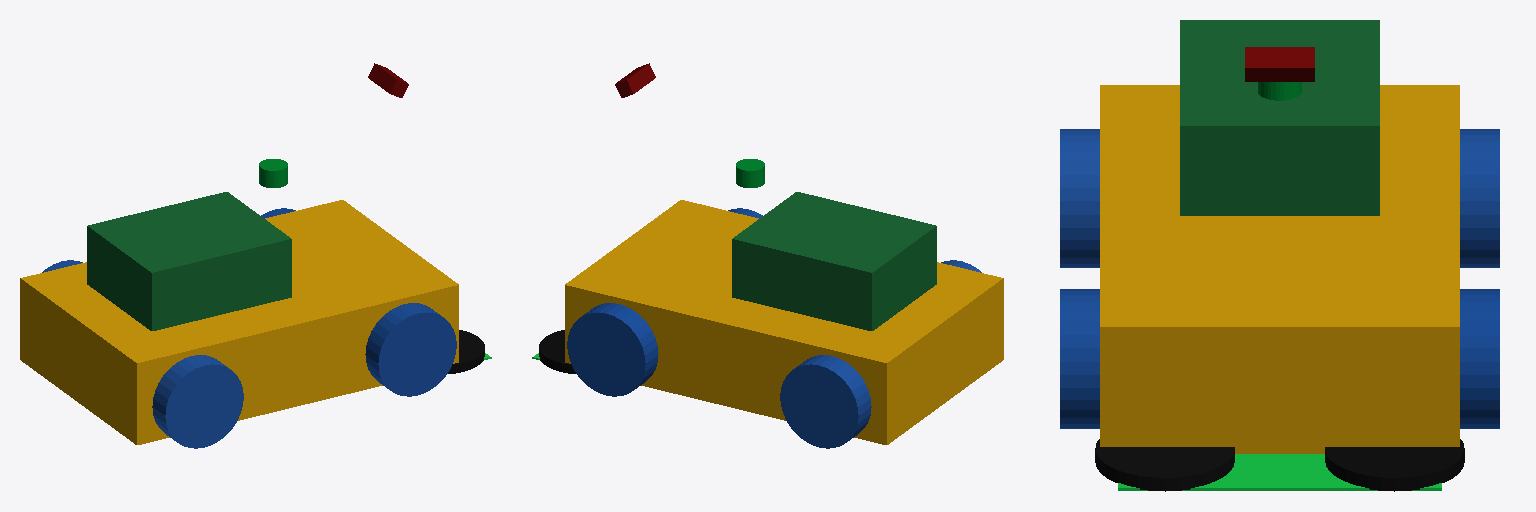
URDF robot description (sanitation_vehicle):
<?xml version="1.0" ?>
<!-- =================================================================================== -->
<!-- |    This document was autogenerated by xacro from /runtime/install/sanitation_vehicle_description/share/sanitation_vehicle_description/urdf/sanitation_vehicle.urdf.xacro | -->
<!-- |    EDITING THIS FILE BY HAND IS NOT RECOMMENDED                                 | -->
<!-- =================================================================================== -->
<robot name="sanitation_vehicle">
  <!-- Local primitive chassis avoids the upstream Gazebo-classic visual
       override colliding with URDF materials in Ogre2 / Gazebo Harmonic. -->
  <link name="base_footprint"/>
  <link name="base_link">
    <visual>
      <geometry>
        <box size="1.15 0.72 0.28"/>
      </geometry>
      <material name="sanitation_chassis_yellow">
        <color rgba="0.84 0.63 0.05 1.0"/>
      </material>
    </visual>
    <collision>
      <geometry>
        <box size="1.15 0.72 0.28"/>
      </geometry>
    </collision>
    <inertial>
      <mass value="80.0"/>
      <inertia ixx="3.978666666666667" ixy="0" ixz="0" iyy="9.339333333333332" iyz="0" izz="12.272666666666666"/>
    </inertial>
  </link>
  <joint name="base_to_footprint" type="fixed">
    <parent link="base_footprint"/>
    <child link="base_link"/>
    <origin rpy="0 0 0" xyz="0 0 0.16"/>
  </joint>
  <link name="front_left_wheel_link">
    <visual>
      <origin rpy="1.5707963267948966 0 0"/>
      <geometry>
        <cylinder length="0.08" radius="0.14"/>
      </geometry>
      <material name="front_left_wheel_material">
        <color rgba="0.12 0.32 0.62 1.0"/>
      </material>
    </visual>
    <collision>
      <origin rpy="1.5707963267948966 0 0"/>
      <geometry>
        <cylinder length="0.08" radius="0.14"/>
      </geometry>
    </collision>
    <inertial>
      <mass value="3.0"/>
      <inertia ixx="0.016300000000000002" ixy="0" ixz="0" iyy="0.029400000000000003" iyz="0" izz="0.016300000000000002"/>
    </inertial>
  </link>
  <joint name="front_left_wheel_joint" type="continuous">
    <axis xyz="0 1 0"/>
    <parent link="base_link"/>
    <child link="front_left_wheel_link"/>
    <origin rpy="0 0 0" xyz="0.38 0.4 -0.02"/>
  </joint>
  <gazebo reference="front_left_wheel_link">
    <mu1>1.0</mu1>
    <mu2>1.0</mu2>
  </gazebo>
  <link name="front_right_wheel_link">
    <visual>
      <origin rpy="1.5707963267948966 0 0"/>
      <geometry>
        <cylinder length="0.08" radius="0.14"/>
      </geometry>
      <material name="front_right_wheel_material">
        <color rgba="0.13 0.33 0.63 1.0"/>
      </material>
    </visual>
    <collision>
      <origin rpy="1.5707963267948966 0 0"/>
      <geometry>
        <cylinder length="0.08" radius="0.14"/>
      </geometry>
    </collision>
    <inertial>
      <mass value="3.0"/>
      <inertia ixx="0.016300000000000002" ixy="0" ixz="0" iyy="0.029400000000000003" iyz="0" izz="0.016300000000000002"/>
    </inertial>
  </link>
  <joint name="front_right_wheel_joint" type="continuous">
    <axis xyz="0 1 0"/>
    <parent link="base_link"/>
    <child link="front_right_wheel_link"/>
    <origin rpy="0 0 0" xyz="0.38 -0.4 -0.02"/>
  </joint>
  <gazebo reference="front_right_wheel_link">
    <mu1>1.0</mu1>
    <mu2>1.0</mu2>
  </gazebo>
  <link name="rear_left_wheel_link">
    <visual>
      <origin rpy="1.5707963267948966 0 0"/>
      <geometry>
        <cylinder length="0.08" radius="0.14"/>
      </geometry>
      <material name="rear_left_wheel_material">
        <color rgba="0.14 0.34 0.64 1.0"/>
      </material>
    </visual>
    <collision>
      <origin rpy="1.5707963267948966 0 0"/>
      <geometry>
        <cylinder length="0.08" radius="0.14"/>
      </geometry>
    </collision>
    <inertial>
      <mass value="3.0"/>
      <inertia ixx="0.016300000000000002" ixy="0" ixz="0" iyy="0.029400000000000003" iyz="0" izz="0.016300000000000002"/>
    </inertial>
  </link>
  <joint name="rear_left_wheel_joint" type="continuous">
    <axis xyz="0 1 0"/>
    <parent link="base_link"/>
    <child link="rear_left_wheel_link"/>
    <origin rpy="0 0 0" xyz="-0.38 0.4 -0.02"/>
  </joint>
  <gazebo reference="rear_left_wheel_link">
    <mu1>1.0</mu1>
    <mu2>1.0</mu2>
  </gazebo>
  <link name="rear_right_wheel_link">
    <visual>
      <origin rpy="1.5707963267948966 0 0"/>
      <geometry>
        <cylinder length="0.08" radius="0.14"/>
      </geometry>
      <material name="rear_right_wheel_material">
        <color rgba="0.15 0.35 0.65 1.0"/>
      </material>
    </visual>
    <collision>
      <origin rpy="1.5707963267948966 0 0"/>
      <geometry>
        <cylinder length="0.08" radius="0.14"/>
      </geometry>
    </collision>
    <inertial>
      <mass value="3.0"/>
      <inertia ixx="0.016300000000000002" ixy="0" ixz="0" iyy="0.029400000000000003" iyz="0" izz="0.016300000000000002"/>
    </inertial>
  </link>
  <joint name="rear_right_wheel_joint" type="continuous">
    <axis xyz="0 1 0"/>
    <parent link="base_link"/>
    <child link="rear_right_wheel_link"/>
    <origin rpy="0 0 0" xyz="-0.38 -0.4 -0.02"/>
  </joint>
  <gazebo reference="rear_right_wheel_link">
    <mu1>1.0</mu1>
    <mu2>1.0</mu2>
  </gazebo>
  <link name="imu_link"/>
  <joint name="imu_to_base_link" type="fixed">
    <parent link="base_link"/>
    <child link="imu_link"/>
    <origin rpy="0 0 0" xyz="0 0 0"/>
  </joint>
  <gazebo>
    <plugin filename="gz-sim-imu-system" name="gz::sim::systems::Imu">
      </plugin>
  </gazebo>
  <gazebo reference="imu_link">
    <sensor name="imu_sensor" type="imu">
      <topic>imu/data</topic>
      <update_rate>50</update_rate>
      <always_on>true</always_on>
      <visualize>true</visualize>
    </sensor>
  </gazebo>
  <link name="laser">
    <visual>
      <geometry>
        <cylinder length="0.06" radius="0.045"/>
      </geometry>
      <material name="sanitation_lidar_green">
        <color rgba="0.02 0.55 0.20 1.0"/>
      </material>
    </visual>
    <collision>
      <geometry>
        <cylinder length="0.06" radius="0.045"/>
      </geometry>
    </collision>
    <inertial>
      <mass value="0.1"/>
      <inertia ixx="0.00006" ixy="0" ixz="0" iyy="0.00006" iyz="0" izz="0.00010"/>
    </inertial>
  </link>
  <joint name="laser_to_base_link" type="fixed">
    <parent link="base_link"/>
    <child link="laser"/>
    <origin rpy="0 0 0" xyz="0.12 0 0.48"/>
  </joint>
  <gazebo reference="laser">
    <sensor name="sanitation_gpu_lidar" type="gpu_lidar">
      <topic>scan</topic>
      <update_rate>10</update_rate>
      <always_on>true</always_on>
      <visualize>true</visualize>
      <lidar>
        <scan>
          <horizontal>
            <samples>360</samples>
            <resolution>1</resolution>
            <min_angle>-3.1416</min_angle>
            <max_angle>3.1416</max_angle>
          </horizontal>
          <vertical>
            <samples>1</samples>
            <resolution>1</resolution>
            <min_angle>0.0</min_angle>
            <max_angle>0.0</max_angle>
          </vertical>
        </scan>
        <range>
          <min>0.08</min>
          <max>12.0</max>
          <resolution>0.01</resolution>
        </range>
      </lidar>
    </sensor>
  </gazebo>
  <link name="camera_link">
    <visual>
      <geometry>
        <box size="0.05 0.14 0.05"/>
      </geometry>
      <material name="sanitation_camera_red">
        <color rgba="0.45 0.05 0.05 1.0"/>
      </material>
    </visual>
    <collision>
      <geometry>
        <box size="0.05 0.14 0.05"/>
      </geometry>
    </collision>
    <inertial>
      <mass value="0.135"/>
      <inertia ixx="0.00025" ixy="0" ixz="0" iyy="0.00006" iyz="0" izz="0.00025"/>
    </inertial>
  </link>
  <joint name="camera_to_base_link" type="fixed">
    <parent link="base_link"/>
    <child link="camera_link"/>
    <origin rpy="0 .5235987756 0" xyz=".53 0.0 .70"/>
  </joint>
  <link name="camera_depth_link"/>
  <joint name="camera_depth_joint" type="fixed">
    <parent link="camera_link"/>
    <child link="camera_depth_link"/>
    <origin rpy="0 0 0" xyz="0 0 0"/>
  </joint>
  <gazebo reference="camera_link">
    <sensor name="sanitation_rgbd_camera" type="rgbd_camera">
      <topic>camera</topic>
      <update_rate>15</update_rate>
      <always_on>true</always_on>
      <visualize>true</visualize>
      <camera>
        <optical_frame_id>camera_depth_link</optical_frame_id>
        <horizontal_fov>1.50098</horizontal_fov>
        <image>
          <width>640</width>
          <height>480</height>
          <format>R8G8B8</format>
        </image>
        <clip>
          <near>0.3</near>
          <far>100</far>
        </clip>
      </camera>
    </sensor>
    <sensor name="g2_semantic_gt" type="segmentation">
      <topic>g2/semantic_gt</topic>
      <gz_frame_id>camera_depth_link</gz_frame_id>
      <update_rate>15</update_rate>
      <always_on>true</always_on>
      <camera>
        <segmentation_type>semantic</segmentation_type>
        <optical_frame_id>camera_depth_link</optical_frame_id>
        <horizontal_fov>1.50098</horizontal_fov>
        <image>
          <width>640</width>
          <height>480</height>
          <format>R8G8B8</format>
        </image>
        <clip>
          <near>0.3</near>
          <far>100</far>
        </clip>
      </camera>
    </sensor>
    <sensor name="g2_instance_gt" type="segmentation">
      <topic>g2/instance_gt</topic>
      <gz_frame_id>camera_depth_link</gz_frame_id>
      <update_rate>15</update_rate>
      <always_on>true</always_on>
      <camera>
        <segmentation_type>instance</segmentation_type>
        <optical_frame_id>camera_depth_link</optical_frame_id>
        <horizontal_fov>1.50098</horizontal_fov>
        <image>
          <width>640</width>
          <height>480</height>
          <format>R8G8B8</format>
        </image>
        <clip>
          <near>0.3</near>
          <far>100</far>
        </clip>
      </camera>
    </sensor>
  </gazebo>
  <gazebo>
    <plugin filename="gz-sim-diff-drive-system" name="gz::sim::systems::DiffDrive">
      <topic>cmd_vel</topic>
      <!-- <frame_id>odom</frame_id> -->
      <child_frame_id>base_footprint</child_frame_id>
      <odom_topic>odom/unfiltered</odom_topic>
      <!-- <tf_topic>/tf</tf_topic> -->
      <left_joint>front_left_wheel_joint</left_joint>
      <right_joint>front_right_wheel_joint</right_joint>
      <left_joint>rear_left_wheel_joint</left_joint>
      <right_joint>rear_right_wheel_joint</right_joint>
      <wheel_separation>0.8</wheel_separation>
      <wheel_radius>0.14</wheel_radius>
      <odom_publish_frequency>50</odom_publish_frequency>
    </plugin>
  </gazebo>
  <gazebo>
    <plugin filename="gz-sim-joint-state-publisher-system" name="gz::sim::systems::JointStatePublisher">
      <topic>joint_states</topic>
      <update_rate>50</update_rate>
      <joint_name>front_left_wheel_joint</joint_name>
      <joint_name>front_right_wheel_joint</joint_name>
      <joint_name>rear_left_wheel_joint</joint_name>
      <joint_name>rear_right_wheel_joint</joint_name>
    </plugin>
  </gazebo>
  <!-- Model-scoped Gazebo truth. Unlike the world Pose_V bridge, this topic
       has one producer bound to this model and preserves an explicit frame
       identity all the way into ROS. It is evaluation-only and must never be
       fused into the realistic odometry / localization lane. -->
  <gazebo>
    <plugin filename="gz-sim-odometry-publisher-system" name="gz::sim::systems::OdometryPublisher">
      <odom_publish_frequency>50</odom_publish_frequency>
      <odom_topic>/ground_truth/model_odom_raw</odom_topic>
      <odom_frame>world</odom_frame>
      <robot_base_frame>sanitation_vehicle/base_footprint</robot_base_frame>
      <dimensions>2</dimensions>
    </plugin>
  </gazebo>
  <gazebo>
    <plugin filename="gz-sim-label-system" name="gz::sim::systems::Label">
      <label>250</label>
    </plugin>
  </gazebo>
  <!-- 40 L bin: 0.50 * 0.40 * 0.20 = 0.040 m^3. -->
  <link name="dust_bin_link">
    <visual>
      <origin xyz="0 0 0"/>
      <geometry>
        <box size="0.50 0.40 0.20"/>
      </geometry>
      <material name="bin_green">
        <color rgba="0.12 0.42 0.22 1.0"/>
      </material>
    </visual>
    <collision>
      <origin xyz="0 0 0"/>
      <geometry>
        <box size="0.50 0.40 0.20"/>
      </geometry>
    </collision>
    <inertial>
      <mass value="8.0"/>
      <inertia ixx="0.133" ixy="0" ixz="0" iyy="0.193" iyz="0" izz="0.273"/>
    </inertial>
  </link>
  <joint name="dust_bin_joint" type="fixed">
    <parent link="base_link"/>
    <child link="dust_bin_link"/>
    <origin rpy="0 0 0" xyz="-0.18 0 0.25"/>
  </joint>
  <!-- Side brushes are fixed visual/collision placeholders in Stage 2.
       Codex should add controllable joints/cleaning semantics later. -->
  <link name="left_brush_link">
    <visual>
      <geometry>
        <cylinder length="0.03" radius="0.14"/>
      </geometry>
      <material name="left_brush_dark">
        <color rgba="0.08 0.08 0.08 1.0"/>
      </material>
    </visual>
    <collision>
      <geometry>
        <cylinder length="0.03" radius="0.14"/>
      </geometry>
    </collision>
    <inertial>
      <mass value="1.0"/>
      <inertia ixx="0.00495" ixy="0" ixz="0" iyy="0.00495" iyz="0" izz="0.0098"/>
    </inertial>
  </link>
  <joint name="left_brush_joint" type="fixed">
    <parent link="base_link"/>
    <child link="left_brush_link"/>
    <origin rpy="0 0 0" xyz="0.58 0.23 -0.14"/>
  </joint>
  <link name="right_brush_link">
    <visual>
      <geometry>
        <cylinder length="0.03" radius="0.14"/>
      </geometry>
      <material name="right_brush_dark">
        <color rgba="0.09 0.09 0.09 1.0"/>
      </material>
    </visual>
    <collision>
      <geometry>
        <cylinder length="0.03" radius="0.14"/>
      </geometry>
    </collision>
    <inertial>
      <mass value="1.0"/>
      <inertia ixx="0.00495" ixy="0" ixz="0" iyy="0.00495" iyz="0" izz="0.0098"/>
    </inertial>
  </link>
  <joint name="right_brush_joint" type="fixed">
    <parent link="base_link"/>
    <child link="right_brush_link"/>
    <origin rpy="0 0 0" xyz="0.58 -0.23 -0.14"/>
  </joint>
  <!-- Non-colliding visualization of the nominal cleaning footprint. -->
  <link name="cleaning_footprint_link">
    <visual>
      <origin xyz="0 0 0"/>
      <geometry>
        <box size="0.32 0.65 0.005"/>
      </geometry>
      <material name="cleaning_zone">
        <color rgba="0.1 0.8 0.3 0.18"/>
      </material>
    </visual>
  </link>
  <joint name="cleaning_footprint_joint" type="fixed">
    <parent link="base_link"/>
    <child link="cleaning_footprint_link"/>
    <origin rpy="0 0 0" xyz="0.55 0 -0.155"/>
  </joint>
  <!-- Mounting point reserved for a future manipulator. -->
  <link name="arm_mount_link"/>
  <joint name="arm_mount_joint" type="fixed">
    <parent link="base_link"/>
    <child link="arm_mount_link"/>
    <origin rpy="0 0 0" xyz="0.10 0 0.32"/>
  </joint>
</robot>

--- Facts derived from the render (not from the file) ---
Views: 3 orthographic renders of the robot side by side, from view 1: azimuth 30°, elevation 25°; view 2: azimuth 150°, elevation 25°; view 3: azimuth 270°, elevation 25°.
Robot: sanitation_vehicle — 15 links, 14 joints (4 continuous, 10 fixed); root link base_footprint; default pose: all joints at 0.
Visible links, largest first — view 1: base_link, dust_bin_link, rear_right_wheel_link, front_right_wheel_link, right_brush_link, laser, camera_link; view 2: base_link, dust_bin_link, rear_left_wheel_link, front_left_wheel_link, left_brush_link, laser, camera_link; view 3: base_link, dust_bin_link, front_left_wheel_link, front_right_wheel_link, rear_left_wheel_link, rear_right_wheel_link, left_brush_link, right_brush_link, cleaning_footprint_link, camera_link, laser.
Link boxes in pixels (x1=…): base_link: x1=20, y1=200, x2=458, y2=444; dust_bin_link: x1=87, y1=192, x2=291, y2=330; rear_right_wheel_link: x1=152, y1=355, x2=243, y2=448; front_right_wheel_link: x1=365, y1=303, x2=456, y2=396; right_brush_link: x1=448, y1=330, x2=484, y2=373; laser: x1=259, y1=159, x2=287, y2=187; camera_link: x1=368, y1=63, x2=408, y2=97; base_link: x1=565, y1=200, x2=1003, y2=444; dust_bin_link: x1=732, y1=192, x2=936, y2=330; rear_left_wheel_link: x1=780, y1=355, x2=871, y2=448; front_left_wheel_link: x1=567, y1=303, x2=658, y2=396; left_brush_link: x1=539, y1=330, x2=575, y2=373; laser: x1=736, y1=159, x2=764, y2=187; camera_link: x1=615, y1=63, x2=655, y2=97; base_link: x1=1100, y1=85, x2=1459, y2=453; dust_bin_link: x1=1180, y1=20, x2=1379, y2=215; front_left_wheel_link: x1=1460, y1=289, x2=1499, y2=428; front_right_wheel_link: x1=1060, y1=289, x2=1099, y2=428; rear_left_wheel_link: x1=1460, y1=129, x2=1499, y2=267; rear_right_wheel_link: x1=1060, y1=129, x2=1099, y2=267; left_brush_link: x1=1325, y1=439, x2=1464, y2=491; right_brush_link: x1=1095, y1=439, x2=1234, y2=491; cleaning_footprint_link: x1=1118, y1=454, x2=1441, y2=490; camera_link: x1=1245, y1=47, x2=1314, y2=81; laser: x1=1258, y1=82, x2=1301, y2=100.
Bounding box of the posed robot: 1.29 × 0.88 × 0.8942 m (x, y, z).
Geometry: primitives only (box / cylinder / sphere), no mesh files.
